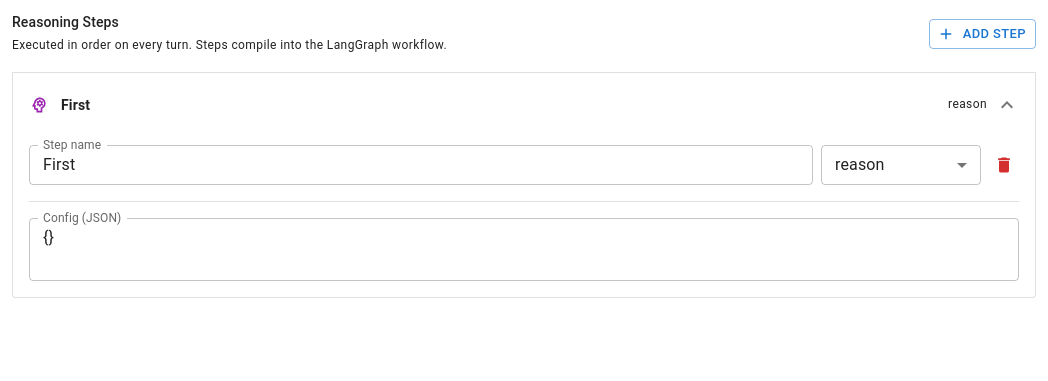
it: StepEditor › newly added steps auto-expand
Click the button with aria-label "Add reasoning step".
click(982, 34)  # box [929,19,1036,49]
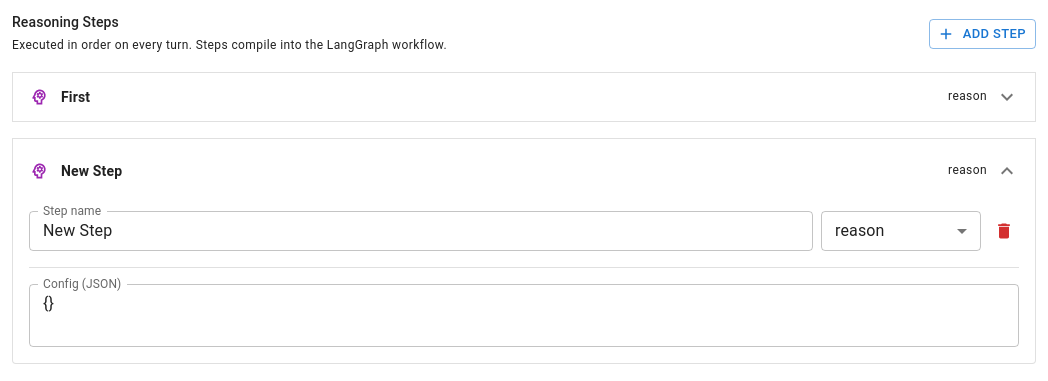
Result: the button "First reason" is collapsed at [13,73,1035,121]
